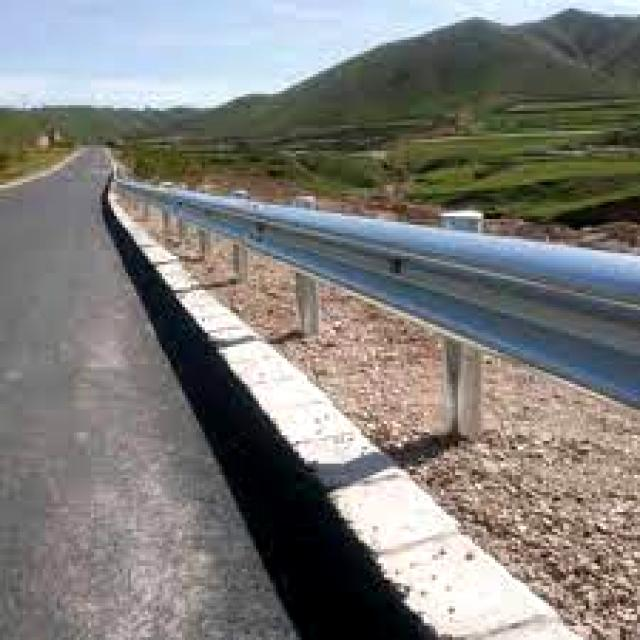Guard rail: (119, 181, 640, 404)
